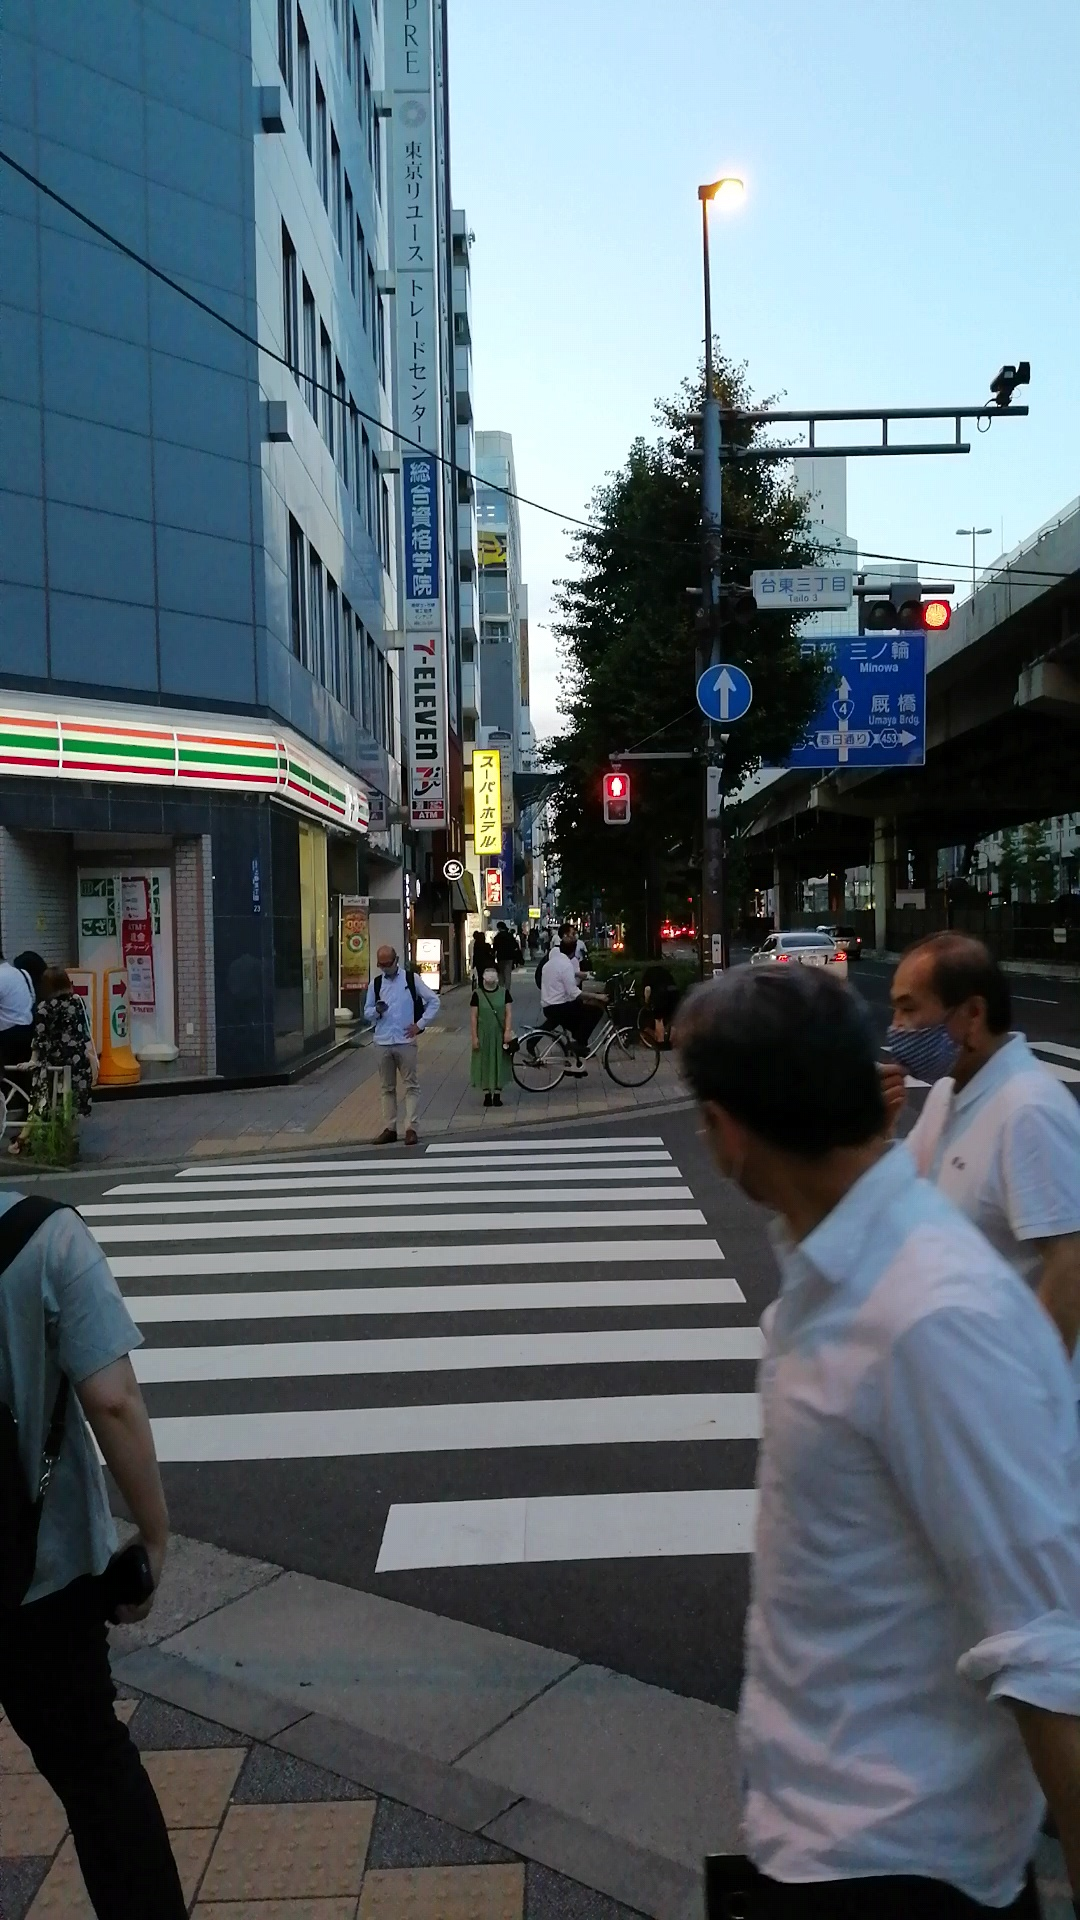red: (599, 773, 632, 827)
